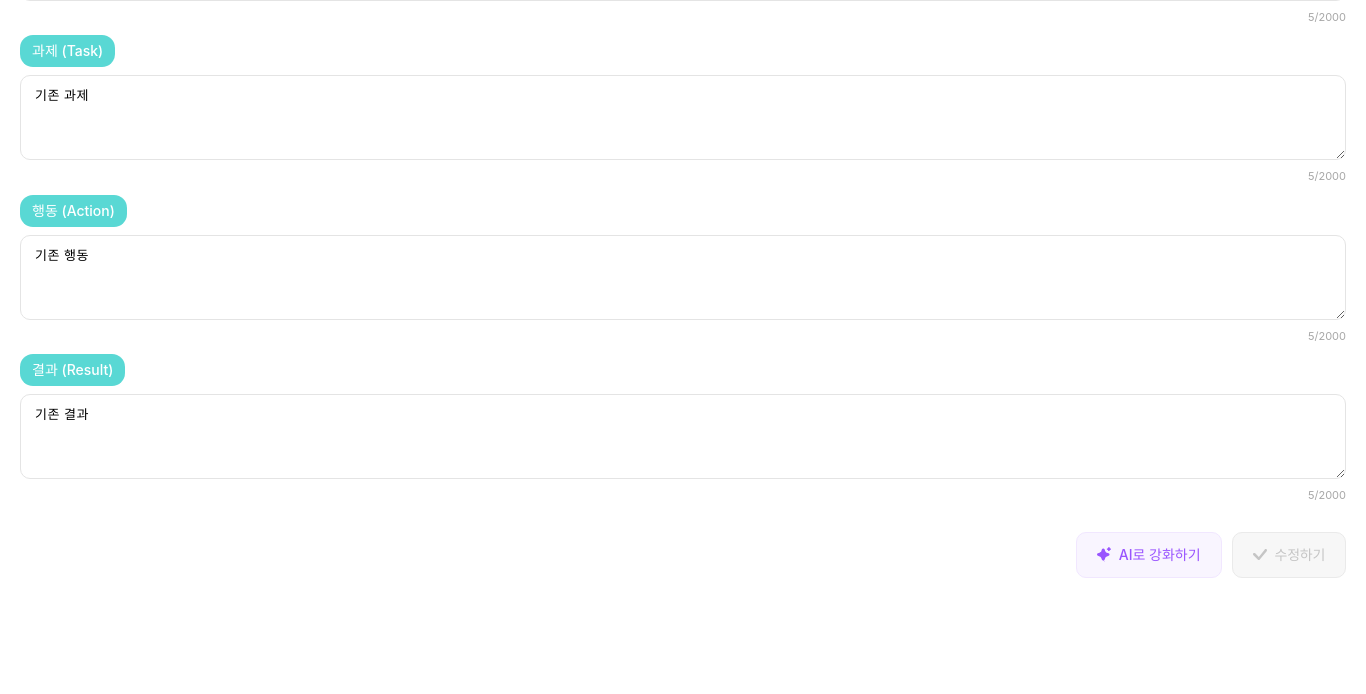
Scenario: QuestDetailPage STAR action › AI 보완 결과 수락은 입력값만 바꾸고 저장 요청을 보내지 않는다
(page scrolled)
Click the button "AI로 강화하기".
click(1149, 554)  # box left=1076, top=532, right=1222, bottom=578
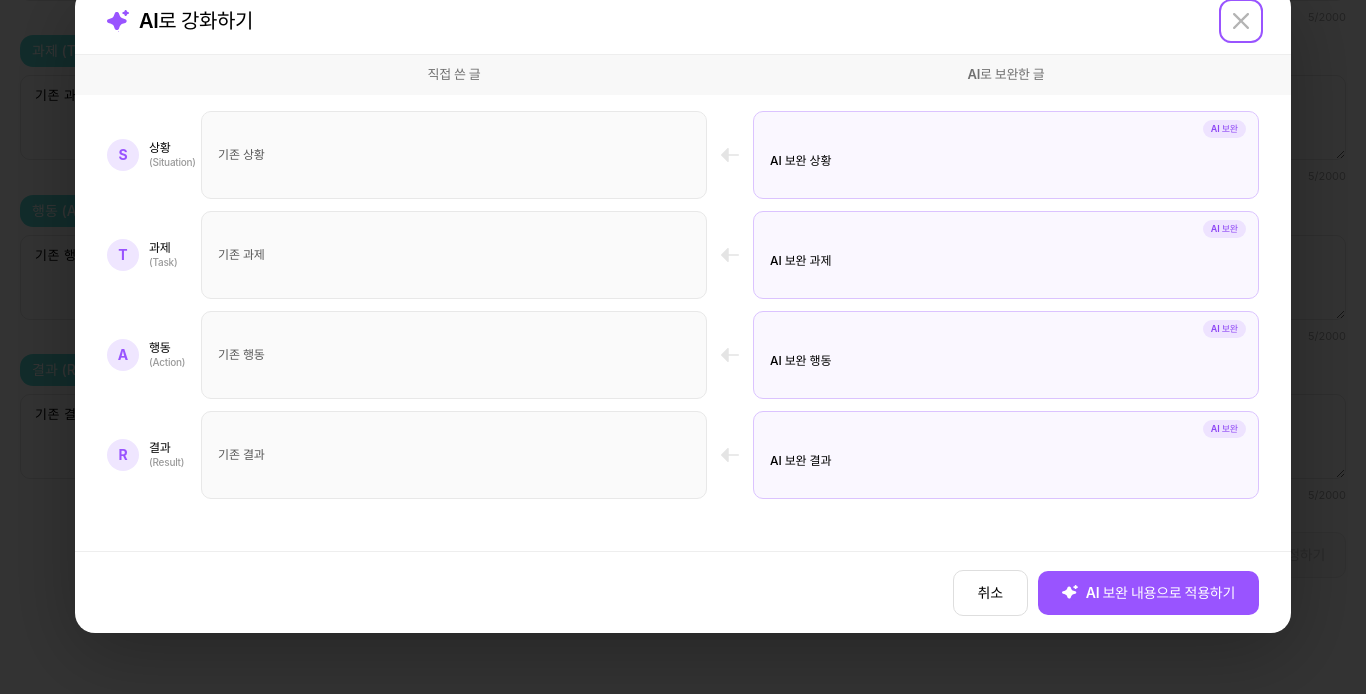
Check: the button "AI 보완 내용으로 적용하기" is enabled
Click the button "AI 보완 내용으로 적용하기".
click(1148, 592)  # box left=1038, top=570, right=1259, bottom=614
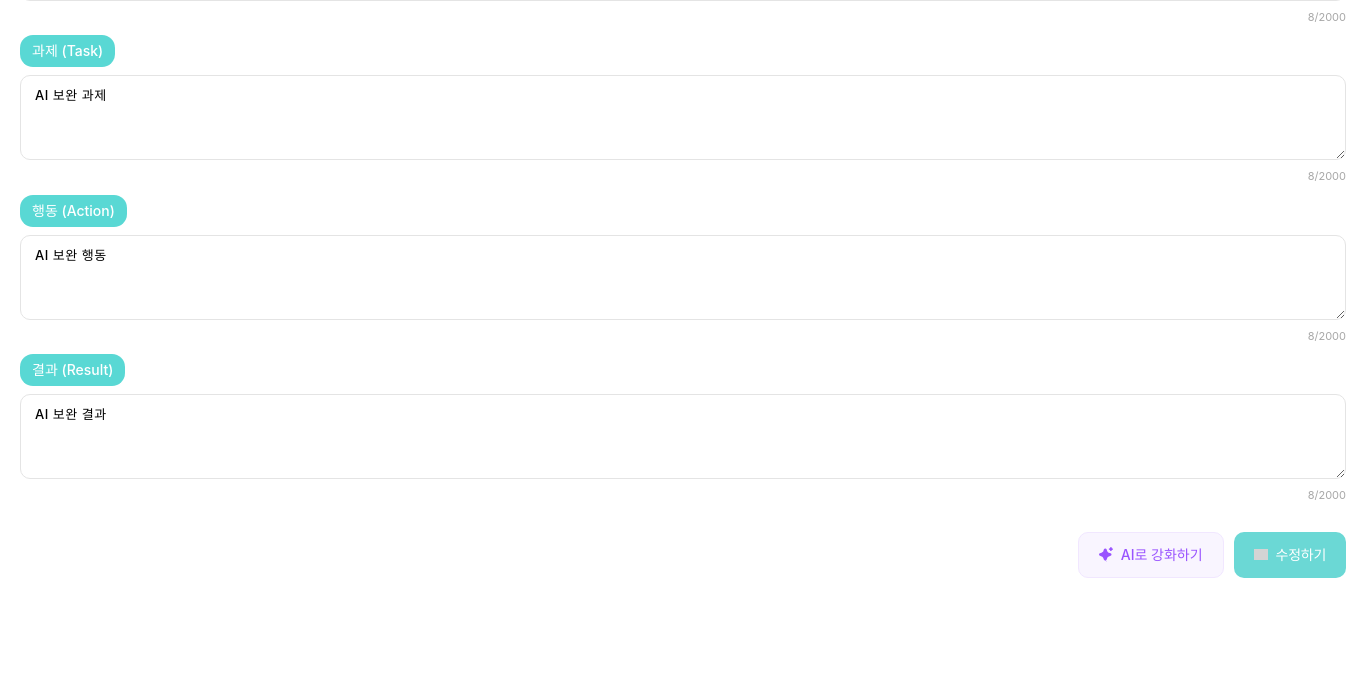
Check: the button "수정하기" is enabled, box left=1234, top=532, right=1346, bottom=578
